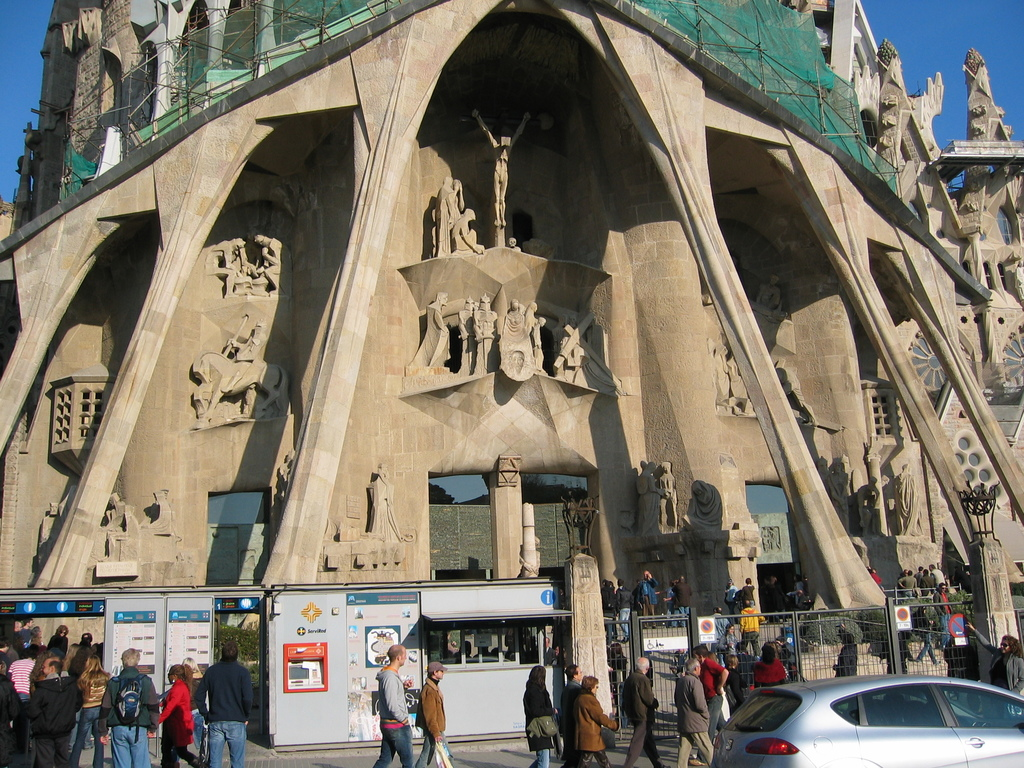Car: (714, 669, 1023, 767)
